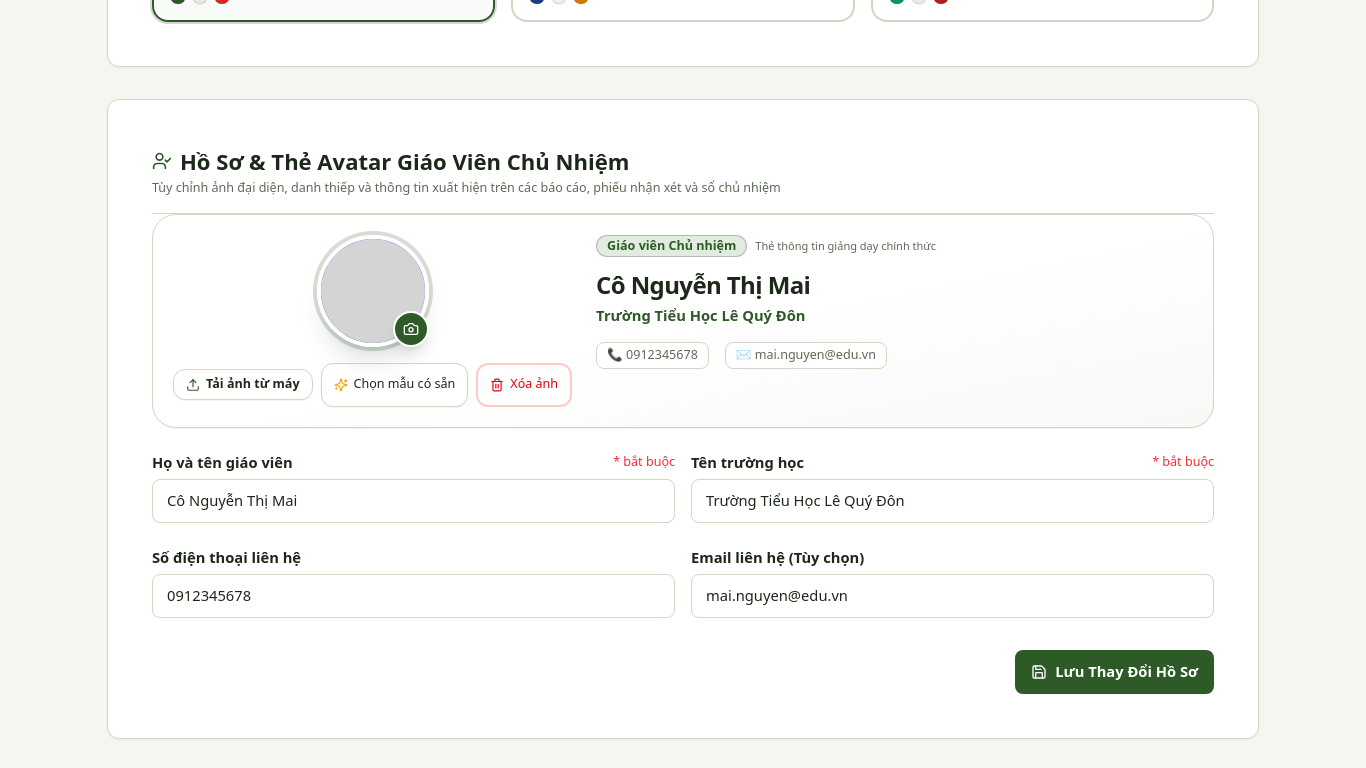
Test case: SettingsPage 5-Level Avatar & Asset Reuse Tests (FEAT-AVATAR-004) › 4. Renders Teacher Profile Hero Card with avatar controls and opens preset picker
(page scrolled)
expect the heading "Hồ Sơ & Thẻ Avatar Giáo Viên Chủ Nhiệm" is shown: met, box [152,146,629,176]
expect the heading "Cô Nguyễn Thị Mai" is shown: met, box [596,268,810,302]
Open preset avatar picker modal
Click the button "Chọn mẫu có sẵn": (394, 385) [320,363,468,407]
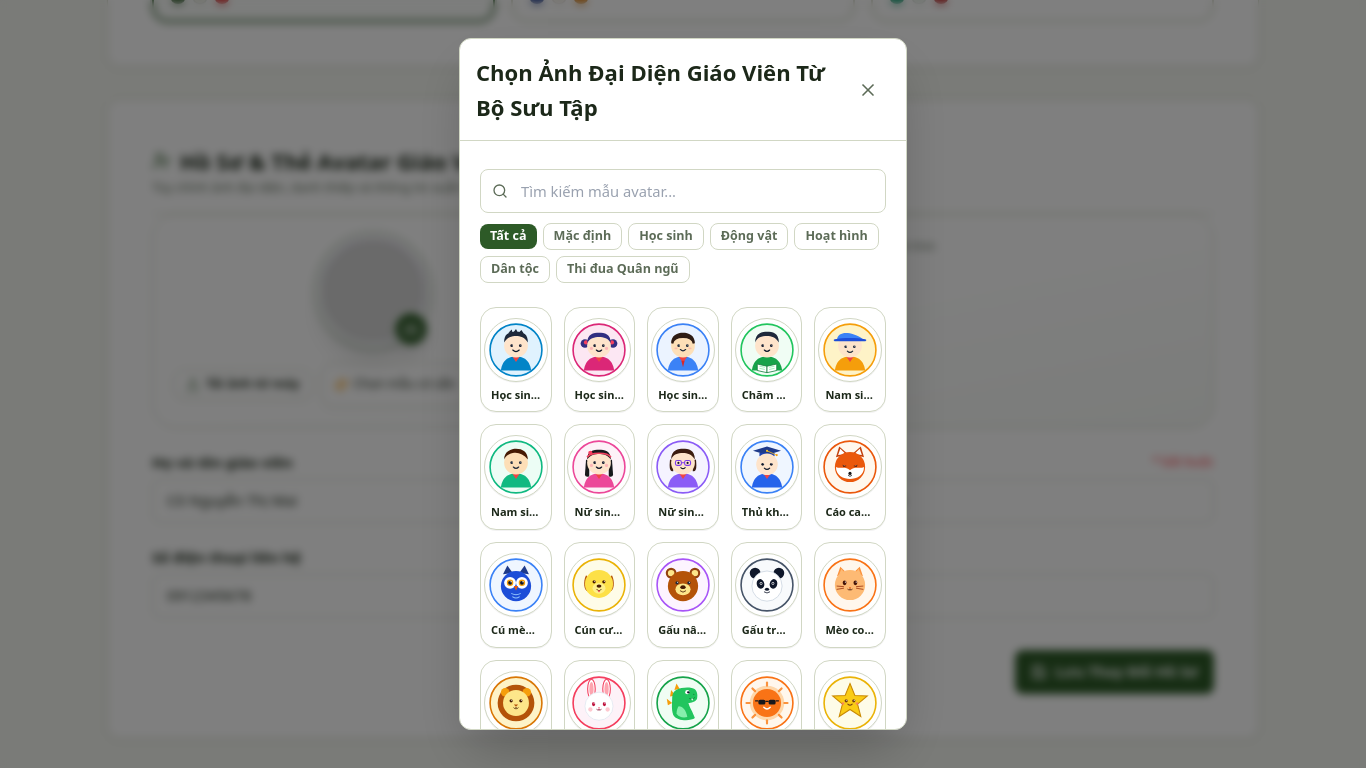
expect the heading "Chọn Ảnh Đại Diện Giáo Viên Từ Bộ Sưu Tập" is shown: met, box [476,55,846,124]
